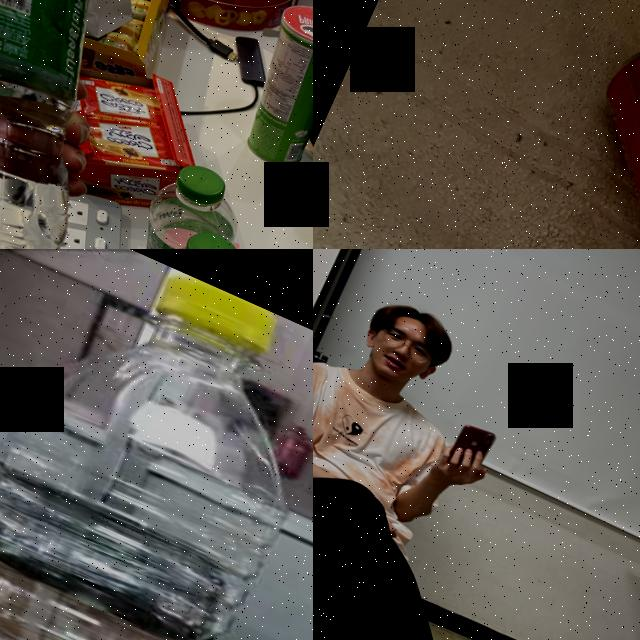bottle: (0, 249, 313, 640), (0, 0, 211, 249), (107, 151, 259, 249)
can: (510, 17, 640, 249)
